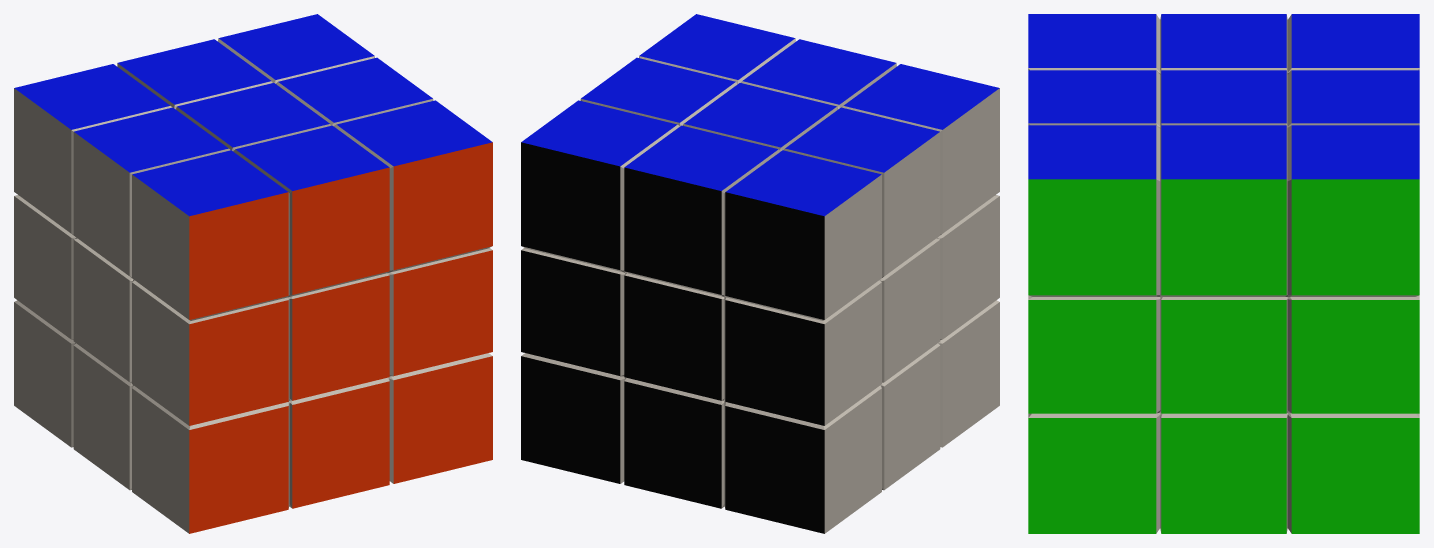
File: mofang.gltf
3 renders of one model, left to right at view 1: azimuth 30°, elevation 25°; view 2: azimuth 150°, elevation 25°; view 3: azimuth 270°, elevation 25°, orthographic. The views are drawn at different scales.
Parts seen in each view (by area): view 1: Cube; view 2: Cube; view 3: Cube.
Boxes of the visible parts, <box> form: Cube: <box>14,14,492,533</box>; Cube: <box>521,14,999,533</box>; Cube: <box>1028,14,1419,533</box>.
Size of the model in its own units: 2 by 2 by 2.
